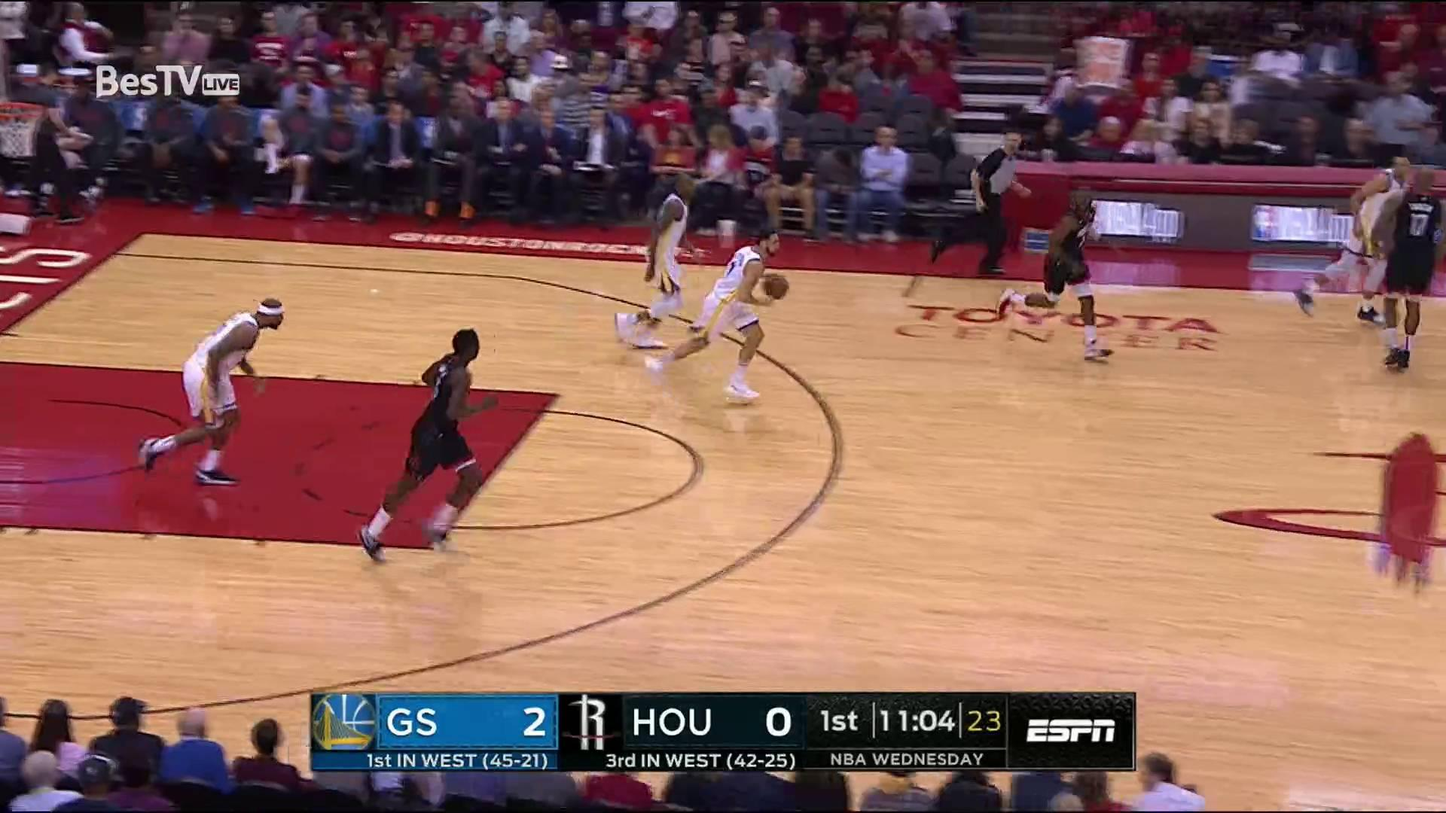basketball: (761, 271, 792, 301)
